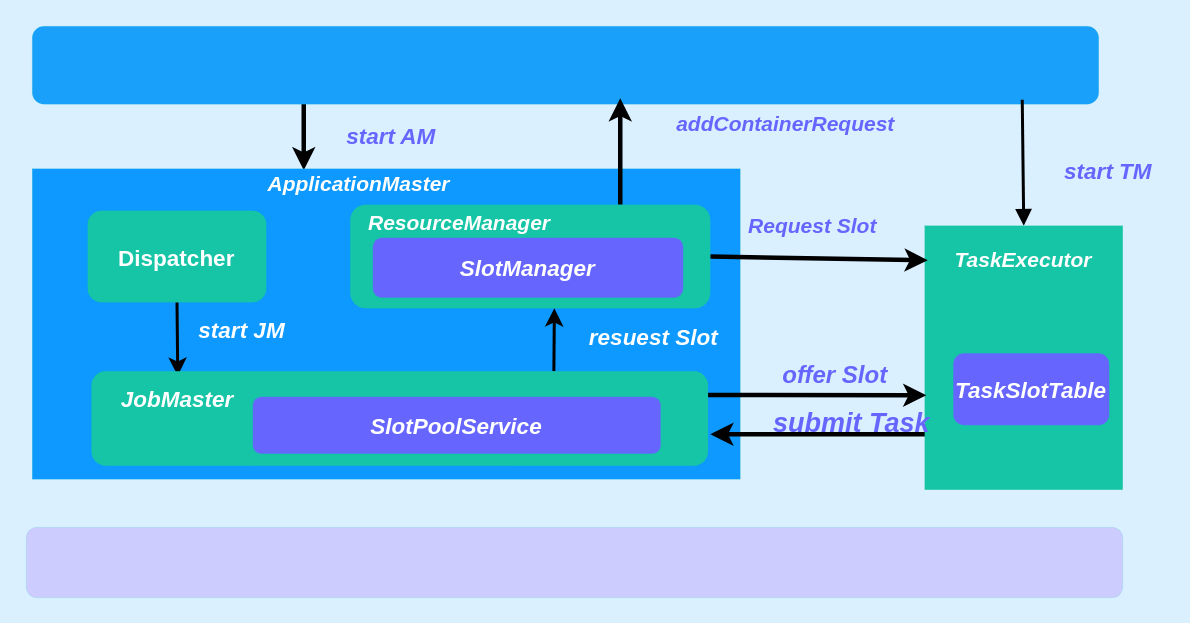
Some shapes in this 1190 by 623 pixel diagram are drawn without their labels. Here are the shapes that lost their labels. From the top down, the centre of each, then its label:
At point 565,65: "Cluster ManagerMent".
At point 574,561: "Storage(HDFS,RocksDB)".
